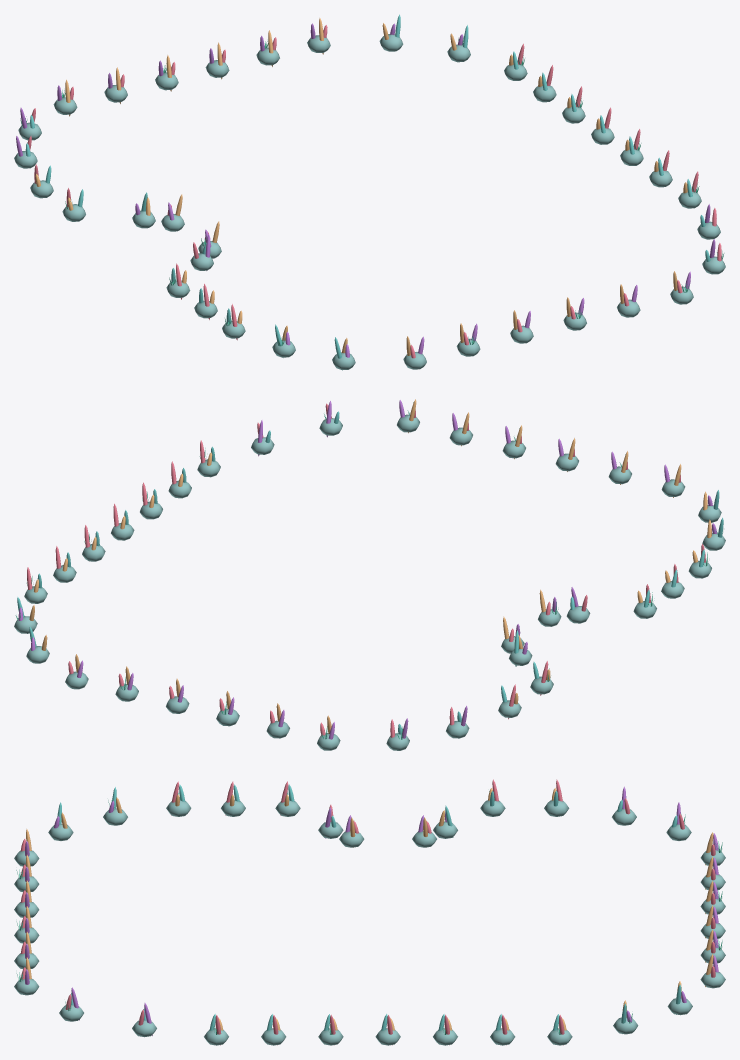
File: reef-11-Bq4BfU1E.glb
3 views of the same model, one above another, from view 1: azimuth 30°, elevation 25°; view 2: azimuth 150°, elevation 25°; view 3: azimuth 270°, elevation 25° (orthographic).
Parts seen in each view (by area): view 1: ReefRock, Coral2, Coral0, Coral1, Coral3; view 2: ReefRock, Coral2, Coral0, Coral1, Coral3; view 3: ReefRock, Coral0, Coral2, Coral1, Coral3.
Boxes of the visible parts, bbox=[...] form: ReefRock: bbox=[14, 34, 725, 369]; Coral2: bbox=[35, 18, 687, 355]; Coral0: bbox=[27, 25, 721, 358]; Coral1: bbox=[16, 23, 715, 357]; Coral3: bbox=[25, 14, 710, 370]; ReefRock: bbox=[14, 414, 725, 750]; Coral2: bbox=[29, 399, 711, 733]; Coral0: bbox=[27, 403, 705, 737]; Coral1: bbox=[18, 400, 716, 739]; Coral3: bbox=[17, 411, 723, 734]; ReefRock: bbox=[14, 799, 725, 1045]; Coral0: bbox=[20, 779, 715, 1045]; Coral2: bbox=[26, 788, 713, 1030]; Coral1: bbox=[25, 786, 718, 1035]; Coral3: bbox=[57, 784, 681, 1030].
Size of the model in its own units: 31 by 2.06 by 39.1.
